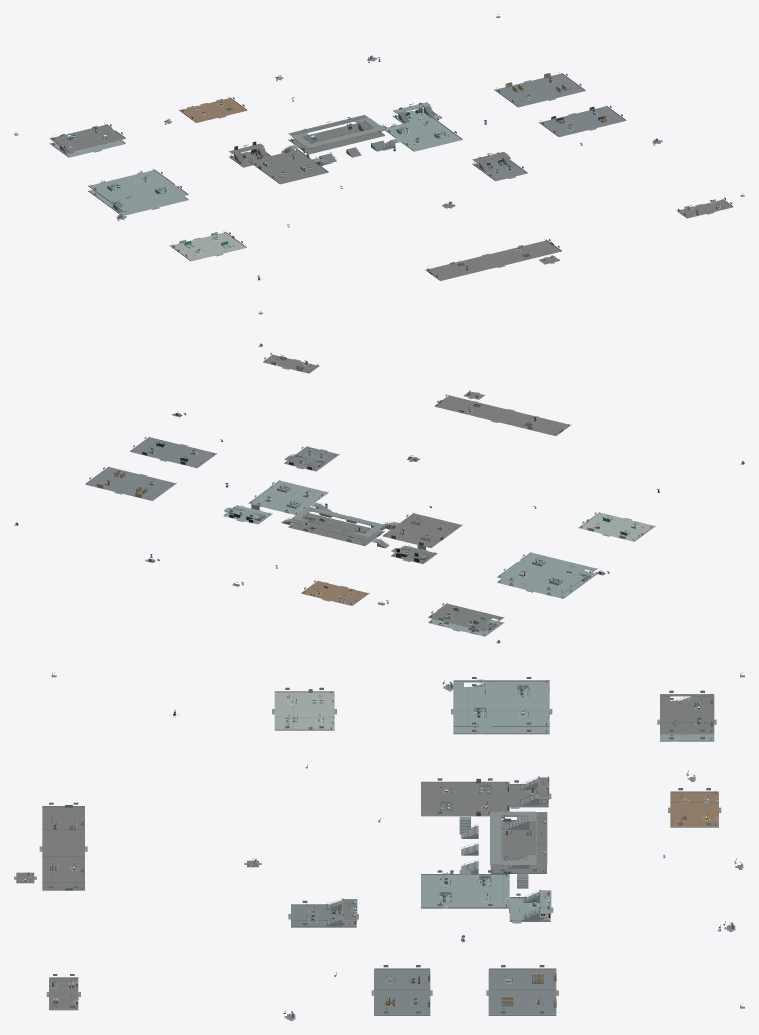
File: Campus_RunSpaces_Interiors.fbx
3 views of the same model, one above another, from view 1: azimuth 30°, elevation 25°; view 2: azimuth 150°, elevation 25°; view 3: azimuth 270°, elevation 25° (orthographic). The views are drawn at different scales.
Parts seen in each view (by area): view 1: V4_Research_Upper_Floor, V4_Transit_Ground_Floor, V4_Logistics_Ground_Floor, V4_Office_Ground_Floor, V4_Biolab_Ground_Floor, V4_VehicleShop_Ground_Floor, V4_Medical_Ground_Floor, V4_Atrium_Ground_Floor, V4_FieldLab_Upper_Floor, V4_Cafe_Ground_Floor, V4_Atrium_MezzStructure_MezzFloor, V4_PowerShop_Ground_Floor (+1 smaller); view 2: V4_Research_Upper_Floor, V4_Transit_Ground_Floor, V4_Logistics_Ground_Floor, V4_Office_Ground_Floor, V4_Biolab_Ground_Floor, V4_VehicleShop_Ground_Floor, V4_Medical_Ground_Floor, V4_Atrium_Ground_Floor, V4_FieldLab_Upper_Floor, V4_Cafe_Ground_Floor, V4_Atrium_MezzStructure_MezzFloor, V4_PowerShop_Ground_Floor (+1 smaller); view 3: V4_Research_Upper_Floor, V4_Transit_Ground_Floor, V4_Logistics_Ground_Floor, V4_Biolab_Ground_Floor, V4_Office_Ground_Floor, V4_VehicleShop_Ground_Floor, V4_Medical_Ground_Floor, V4_FieldLab_Upper_Floor, V4_Cafe_Ground_Floor, V4_Atrium_Ground_Floor, V4_Atrium_MezzStructure_MezzFloor, V4_PowerShop_Ground_Floor (+1 smaller).
Part boxes in pixels (bbox=[...]): V4_Research_Upper_Floor: bbox=[89, 170, 187, 210]; V4_Transit_Ground_Floor: bbox=[426, 240, 561, 280]; V4_Logistics_Ground_Floor: bbox=[495, 73, 584, 107]; V4_Office_Ground_Floor: bbox=[250, 149, 328, 184]; V4_Biolab_Ground_Floor: bbox=[384, 117, 462, 151]; V4_VehicleShop_Ground_Floor: bbox=[540, 106, 625, 137]; V4_Medical_Ground_Floor: bbox=[171, 232, 246, 261]; V4_Atrium_Ground_Floor: bbox=[289, 121, 384, 154]; V4_FieldLab_Upper_Floor: bbox=[51, 124, 125, 152]; V4_Cafe_Ground_Floor: bbox=[180, 98, 246, 122]; V4_Atrium_MezzStructure_MezzFloor: bbox=[288, 115, 384, 148]; V4_PowerShop_Ground_Floor: bbox=[473, 158, 527, 180]; V4_Research_Upper_Floor: bbox=[497, 552, 596, 593]; V4_Transit_Ground_Floor: bbox=[435, 395, 569, 435]; V4_Logistics_Ground_Floor: bbox=[85, 467, 175, 500]; V4_Office_Ground_Floor: bbox=[383, 513, 461, 547]; V4_Biolab_Ground_Floor: bbox=[249, 480, 327, 514]; V4_VehicleShop_Ground_Floor: bbox=[130, 437, 215, 468]; V4_Medical_Ground_Floor: bbox=[579, 512, 654, 541]; V4_Atrium_Ground_Floor: bbox=[288, 513, 383, 545]; V4_FieldLab_Upper_Floor: bbox=[428, 603, 502, 631]; V4_Cafe_Ground_Floor: bbox=[302, 581, 368, 605]; V4_Atrium_MezzStructure_MezzFloor: bbox=[288, 506, 384, 540]; V4_PowerShop_Ground_Floor: bbox=[284, 446, 338, 471]; V4_Research_Upper_Floor: bbox=[453, 681, 549, 726]; V4_Transit_Ground_Floor: bbox=[42, 807, 84, 889]; V4_Logistics_Ground_Floor: bbox=[488, 969, 556, 1015]; V4_Biolab_Ground_Floor: bbox=[421, 875, 509, 908]; V4_Office_Ground_Floor: bbox=[421, 783, 509, 816]; V4_VehicleShop_Ground_Floor: bbox=[374, 969, 430, 1015]; V4_Medical_Ground_Floor: bbox=[274, 692, 334, 730]; V4_FieldLab_Upper_Floor: bbox=[660, 695, 714, 734]; V4_Cafe_Ground_Floor: bbox=[670, 792, 718, 827]; V4_Atrium_Ground_Floor: bbox=[490, 821, 546, 873]; V4_Atrium_MezzStructure_MezzFloor: bbox=[490, 811, 547, 865]; V4_PowerShop_Ground_Floor: bbox=[291, 905, 356, 927].
Size of the model in its own units: 41904 by 1140 by 38230.
